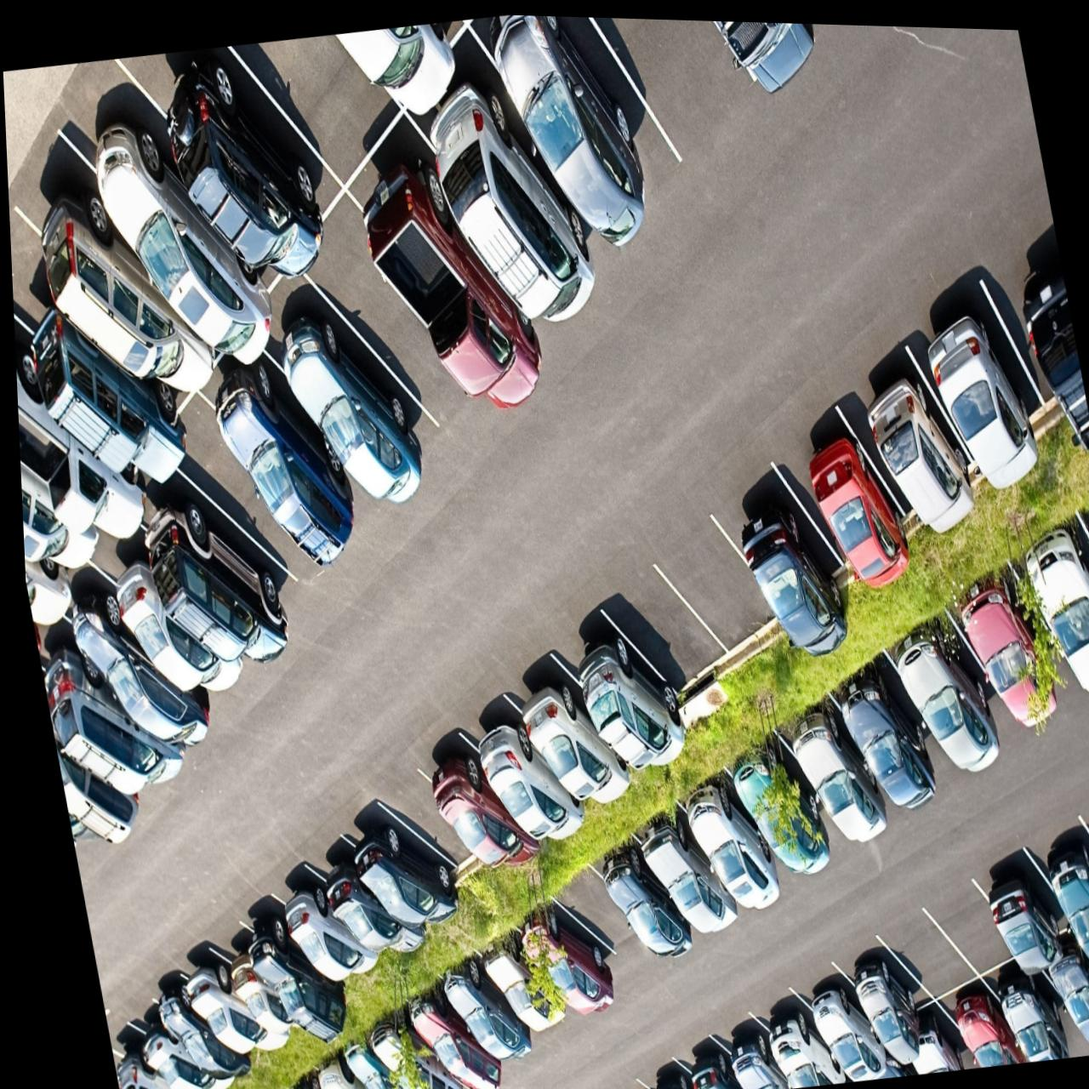cars: (343, 96, 577, 433), (416, 41, 638, 342), (65, 60, 291, 352), (126, 34, 350, 293), (23, 146, 222, 412), (487, 14, 693, 267), (271, 276, 455, 542), (10, 226, 190, 492), (210, 333, 381, 590), (90, 504, 282, 729), (147, 445, 317, 691), (29, 587, 193, 832), (13, 286, 145, 553), (63, 566, 230, 777), (848, 337, 987, 564), (915, 267, 1046, 507), (721, 459, 864, 669), (453, 664, 601, 864), (545, 593, 700, 772), (785, 401, 913, 609), (975, 206, 1089, 439), (506, 631, 637, 817), (885, 601, 1005, 800), (952, 554, 1066, 762), (298, 803, 431, 980), (265, 829, 400, 1002), (231, 879, 365, 1051), (827, 638, 946, 830), (414, 719, 546, 888), (718, 721, 840, 898), (339, 775, 460, 945), (205, 898, 329, 1062), (164, 918, 284, 1081), (137, 940, 260, 1089), (972, 840, 1084, 1002), (681, 753, 788, 921), (476, 915, 585, 1079), (509, 873, 619, 1035), (771, 695, 875, 866), (635, 792, 741, 952), (596, 823, 705, 976), (1013, 494, 1089, 706), (444, 960, 552, 1089), (122, 974, 242, 1089), (795, 961, 903, 1088), (841, 916, 940, 1054), (1022, 790, 1089, 984), (403, 975, 513, 1089), (985, 942, 1077, 1061), (365, 987, 470, 1089), (753, 986, 847, 1089), (104, 998, 208, 1089), (932, 968, 1017, 1072), (335, 1018, 424, 1089), (720, 1010, 798, 1089), (1083, 781, 1089, 950)
empty: (304, 194, 511, 497), (181, 397, 338, 631), (230, 24, 416, 192), (643, 483, 779, 678), (597, 530, 728, 720), (373, 740, 494, 907), (872, 886, 976, 1035), (553, 847, 656, 989), (918, 869, 1021, 1001)
